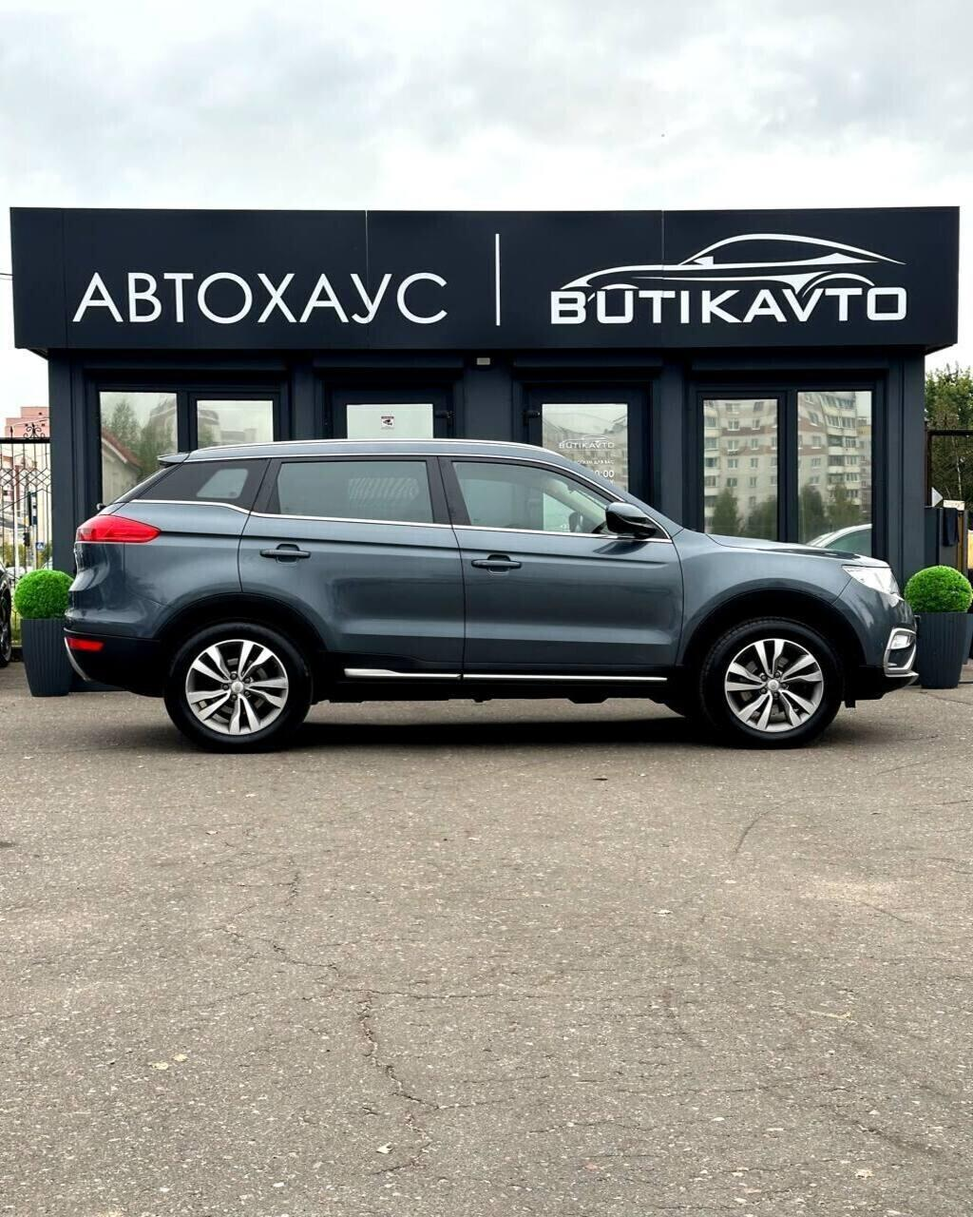Atlas_2016-2023: (60, 437, 928, 754)
